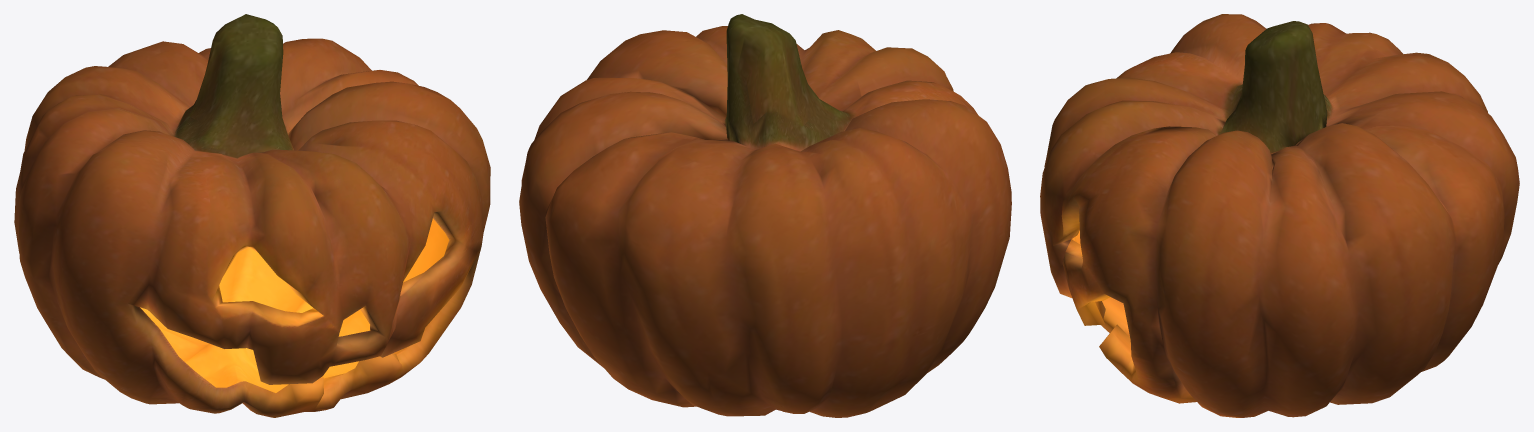
The model's file is halloween-pumpkin.glb.
3 renders of one model, left to right at view 1: azimuth 30°, elevation 25°; view 2: azimuth 150°, elevation 25°; view 3: azimuth 270°, elevation 25°, orthographic. The views are drawn at different scales.
Parts seen in each view (by area): view 1: Halloween Pumpkin; view 2: Halloween Pumpkin; view 3: Halloween Pumpkin.
Boxes of the visible parts, x1,y1,x2,y2 form: Halloween Pumpkin: [14, 14, 490, 417]; Halloween Pumpkin: [519, 14, 1011, 417]; Halloween Pumpkin: [1040, 14, 1519, 417].
Size of the model in its own units: 198 by 160 by 197.
Materials: 1 (1 with a texture image).
